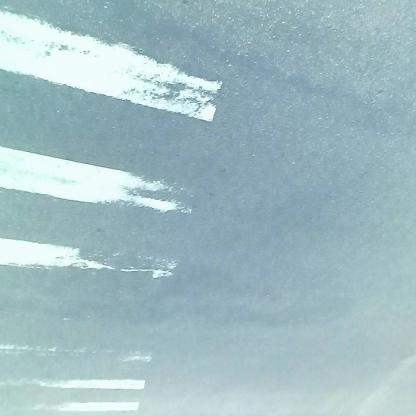crosswalk: (1, 2, 211, 407)
